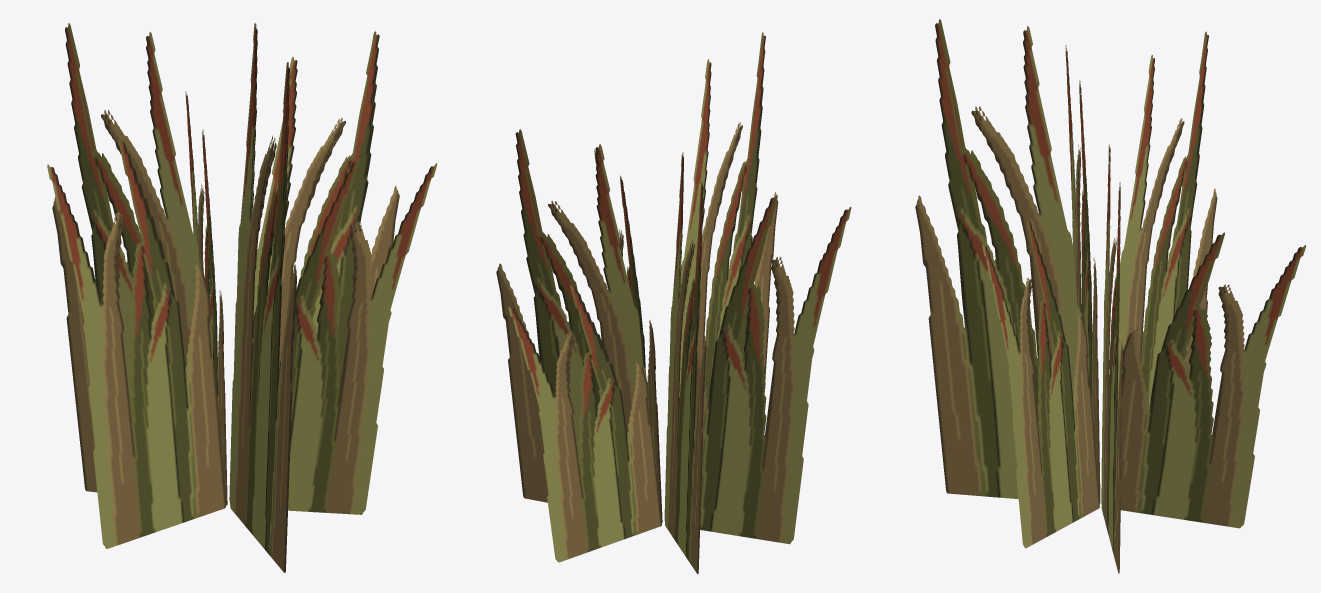
Rendered from SM_VG05_GrassTall.fbx.
The picture shows the model from 3 angles, left to right: view 1: azimuth 30°, elevation 25°; view 2: azimuth 150°, elevation 25°; view 3: azimuth 270°, elevation 25°; orthographic projection. The views are drawn at different scales.
Visible parts, largest first — view 1: VG05_Grass; view 2: VG05_Grass; view 3: VG05_Grass.
Boxes of the visible parts, bbox=[...] form: VG05_Grass: bbox=[47, 23, 437, 572]; VG05_Grass: bbox=[496, 32, 851, 573]; VG05_Grass: bbox=[915, 19, 1305, 573].
Bounding box in the file's own units: 0.703 × 0.84 × 0.6777.
